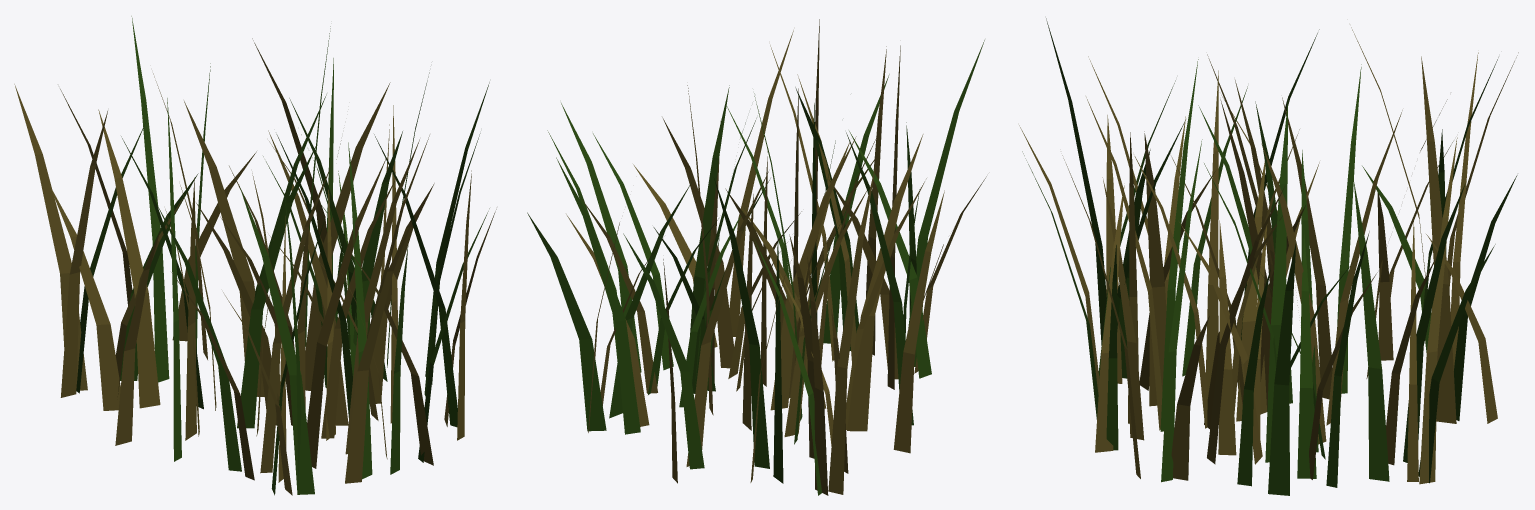
Rendered from grass_tall.obj.
3 views of the same model, side by side, from view 1: azimuth 30°, elevation 25°; view 2: azimuth 150°, elevation 25°; view 3: azimuth 270°, elevation 25° (orthographic). The views are drawn at different scales.
Parts seen in each view (by area): view 1: Dry_Grass, Grass_Green; view 2: Dry_Grass, Grass_Green; view 3: Dry_Grass, Grass_Green.
Boxes of the visible parts, x1,y1,x2,y2 form: Dry_Grass: (14,38,496,495); Grass_Green: (76,16,489,495); Dry_Grass: (566,19,986,495); Grass_Green: (527,40,984,495); Dry_Grass: (1019,27,1518,484); Grass_Green: (1022,18,1517,495).
Bounding box in the file's own units: 1.14 × 0.9856 × 1.28.
